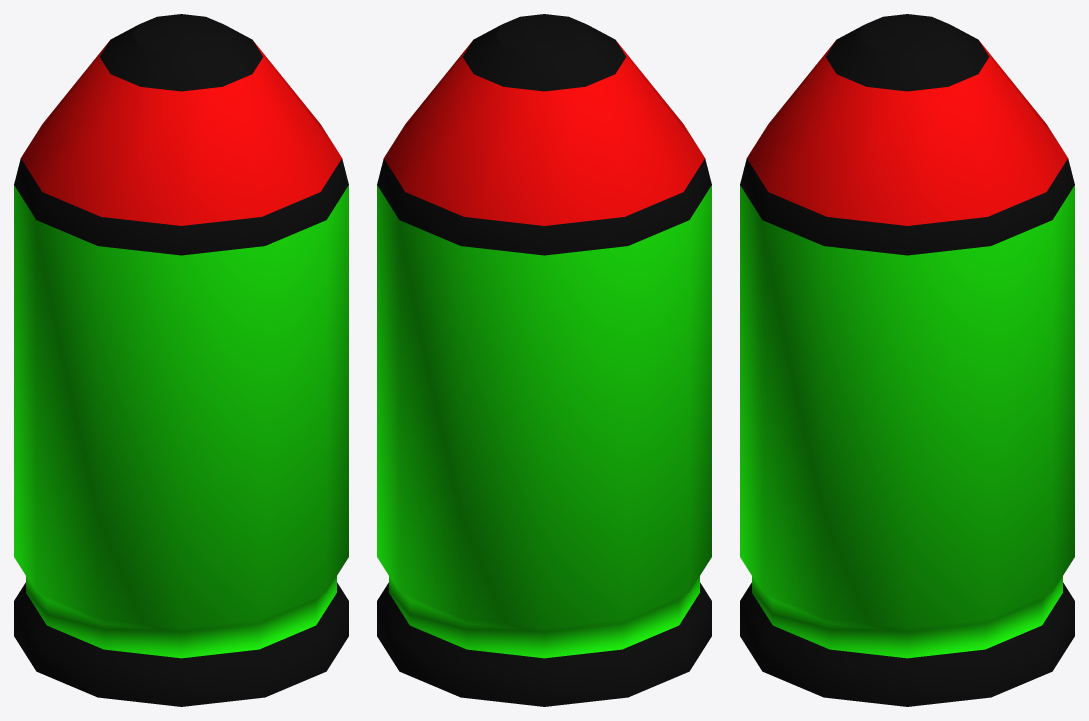
The model's file is ThumperGrenade.FBX.
3 renders of one model, left to right at view 1: azimuth 30°, elevation 25°; view 2: azimuth 150°, elevation 25°; view 3: azimuth 270°, elevation 25°, orthographic.
Parts seen in each view (by area): view 1: ThumperGrenade; view 2: ThumperGrenade; view 3: ThumperGrenade.
Boxes of the visible parts, x1,y1,x2,y2 form: ThumperGrenade: (14, 14, 348, 706); ThumperGrenade: (377, 14, 711, 706); ThumperGrenade: (740, 14, 1074, 706).
Size of the model in its own units: 11.92 by 23.99 by 11.92.
